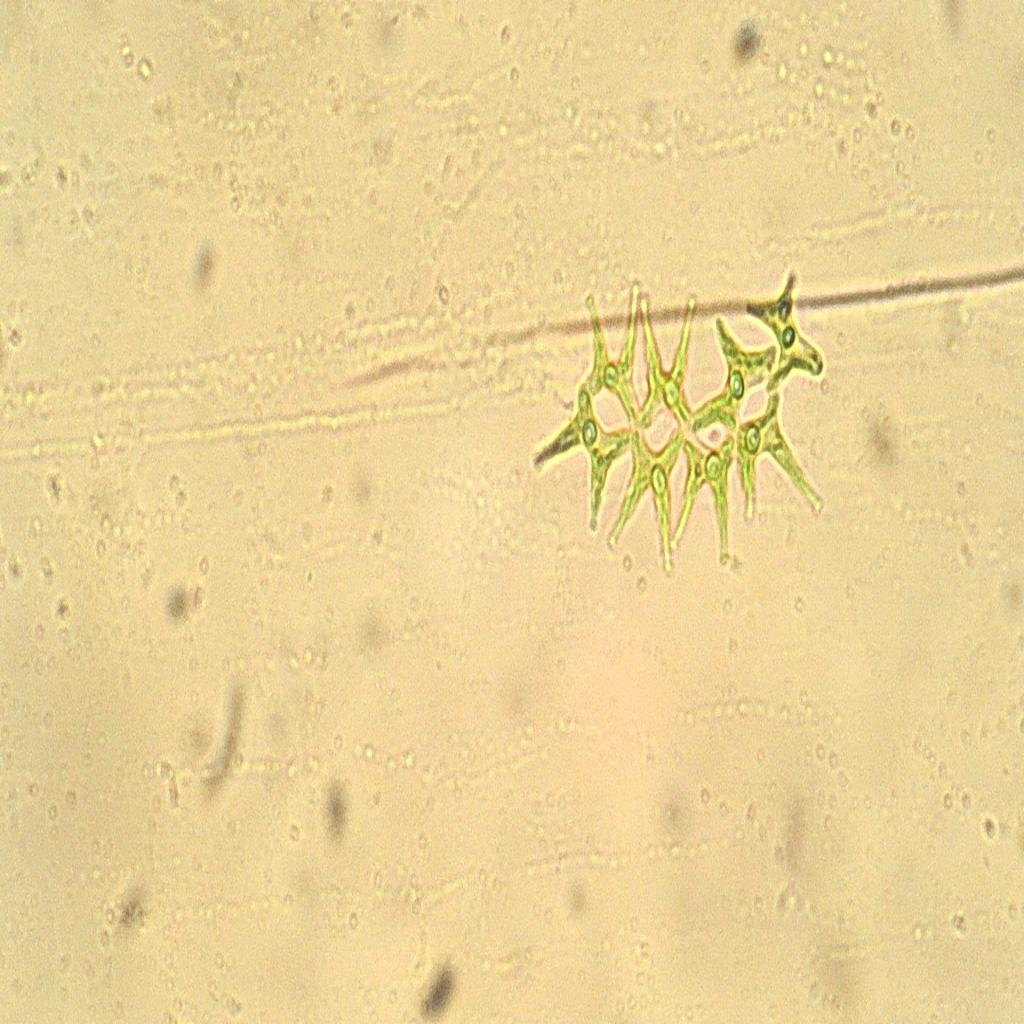Pediastrum_CFI: (509, 235, 849, 613)
